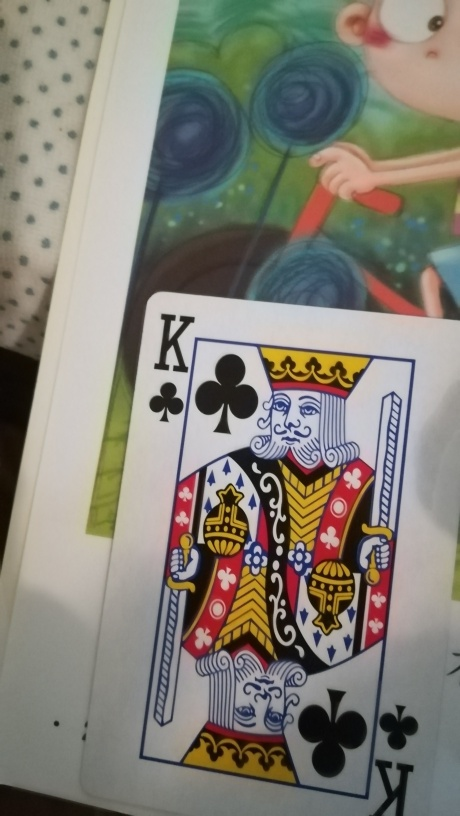mh k: (81, 289, 459, 816)
